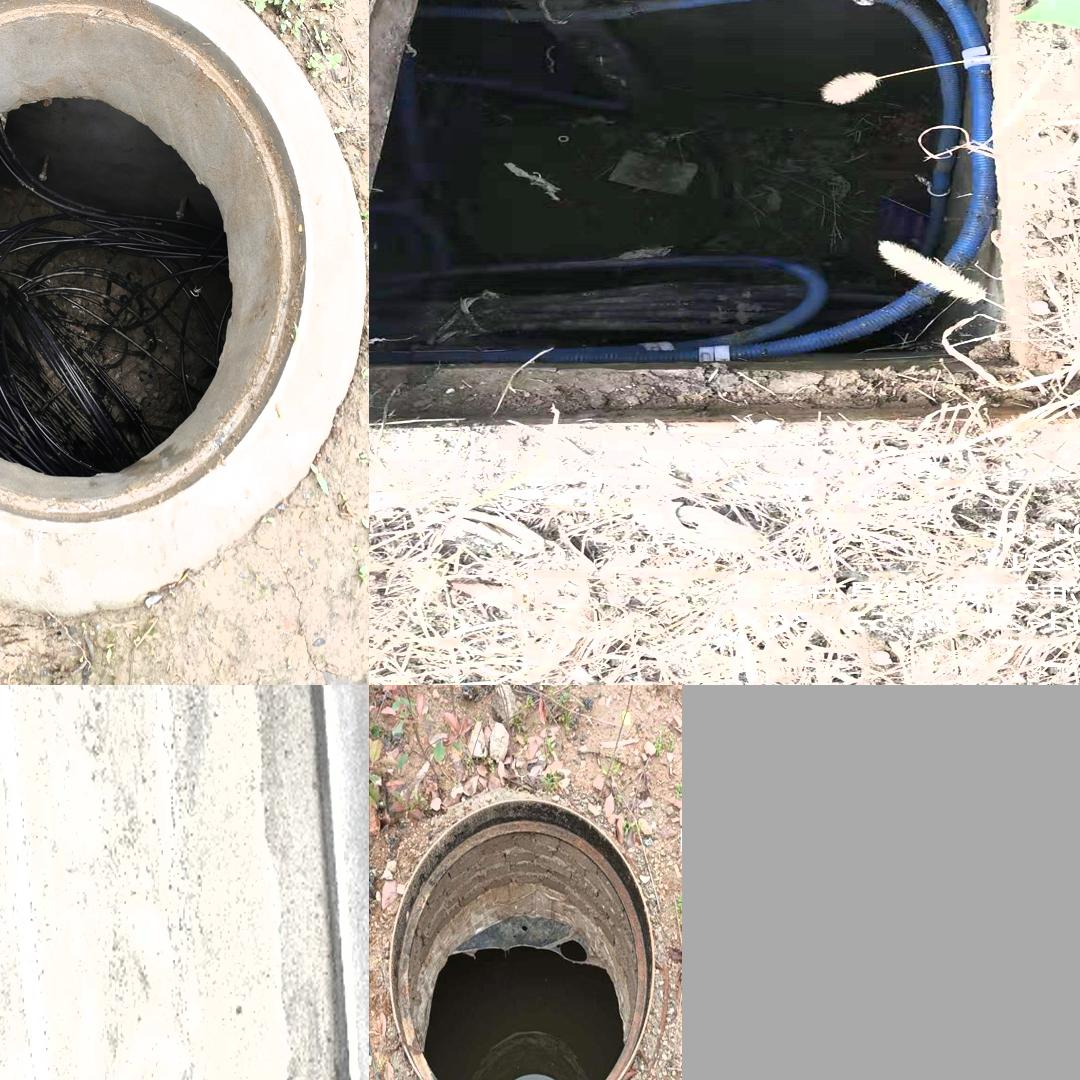lose: (369, 0, 1076, 423), (0, 0, 281, 523), (387, 790, 658, 1080)
